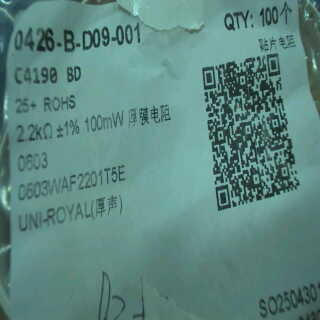2.2kR: (15, 119, 54, 145)
